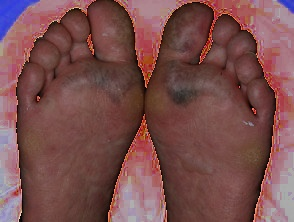SJS-TEN: (129, 0, 294, 222), (10, 0, 147, 222)
